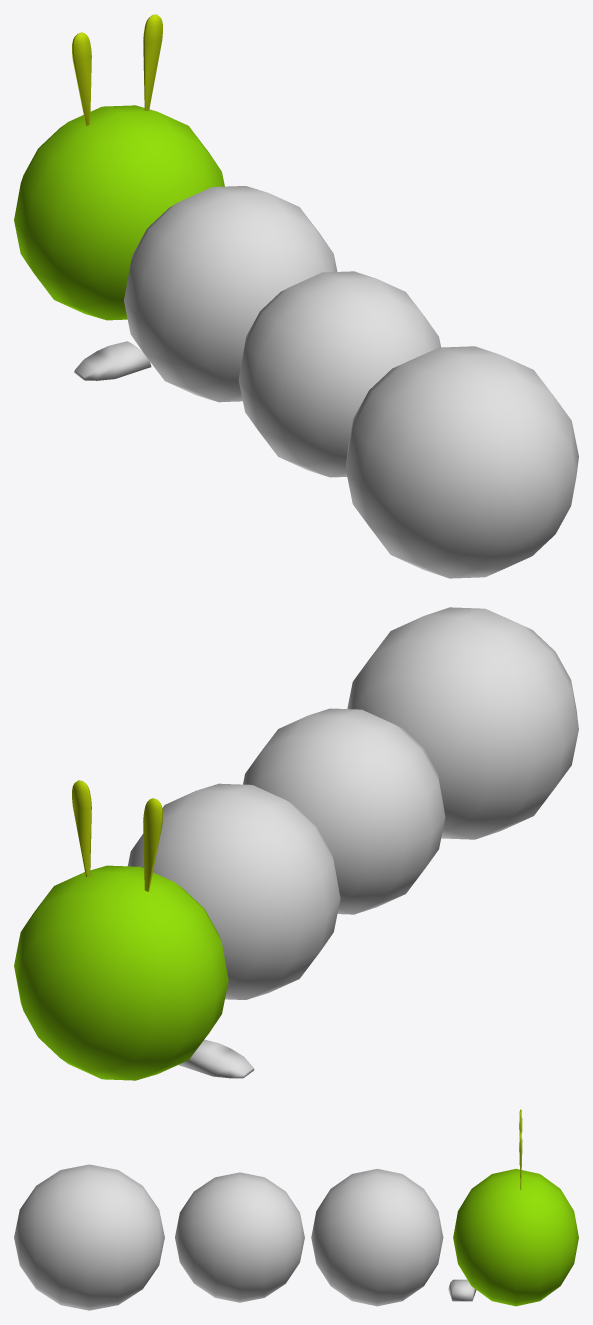
The model's file is new_caterpillar.fbx.
3 views of the same model, one above another, from view 1: azimuth 30°, elevation 25°; view 2: azimuth 150°, elevation 25°; view 3: azimuth 270°, elevation 25° (orthographic). The views are drawn at different scales.
Parts seen in each view (by area): view 1: Cube, Cube.001, Cube.002, Cube.004, Cube.003; view 2: Cube.001, Cube, Cube.002, Cube.004, Cube.003; view 3: Cube, Cube.002, Cube.001, Cube.004, Cube.003.
Boxes of the visible parts, left/top/right/bottom form: Cube: left=345, top=346, right=578, bottom=578; Cube.001: left=14, top=14, right=224, bottom=320; Cube.002: left=124, top=186, right=337, bottom=402; Cube.004: left=238, top=271, right=440, bottom=477; Cube.003: left=74, top=341, right=151, bottom=380; Cube.001: left=14, top=780, right=228, bottom=1080; Cube: left=347, top=607, right=578, bottom=839; Cube.002: left=128, top=783, right=340, bottom=999; Cube.004: left=243, top=708, right=445, bottom=914; Cube.003: left=178, top=1039, right=254, bottom=1078; Cube: left=14, top=1164, right=164, bottom=1310; Cube.002: left=311, top=1168, right=443, bottom=1306; Cube.001: left=453, top=1109, right=578, bottom=1306; Cube.004: left=175, top=1172, right=304, bottom=1302; Cube.003: left=448, top=1279, right=476, bottom=1301.
Bounding box in the file's own units: 213 × 299 × 820.
